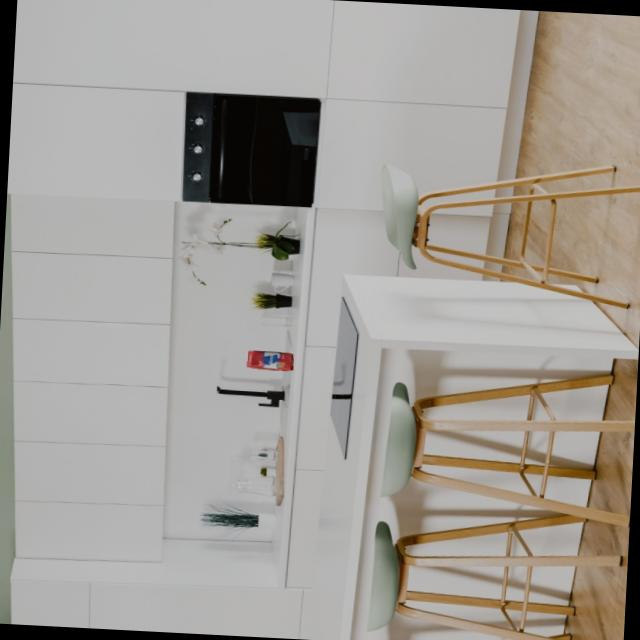mate bag: (239, 348, 294, 371)
